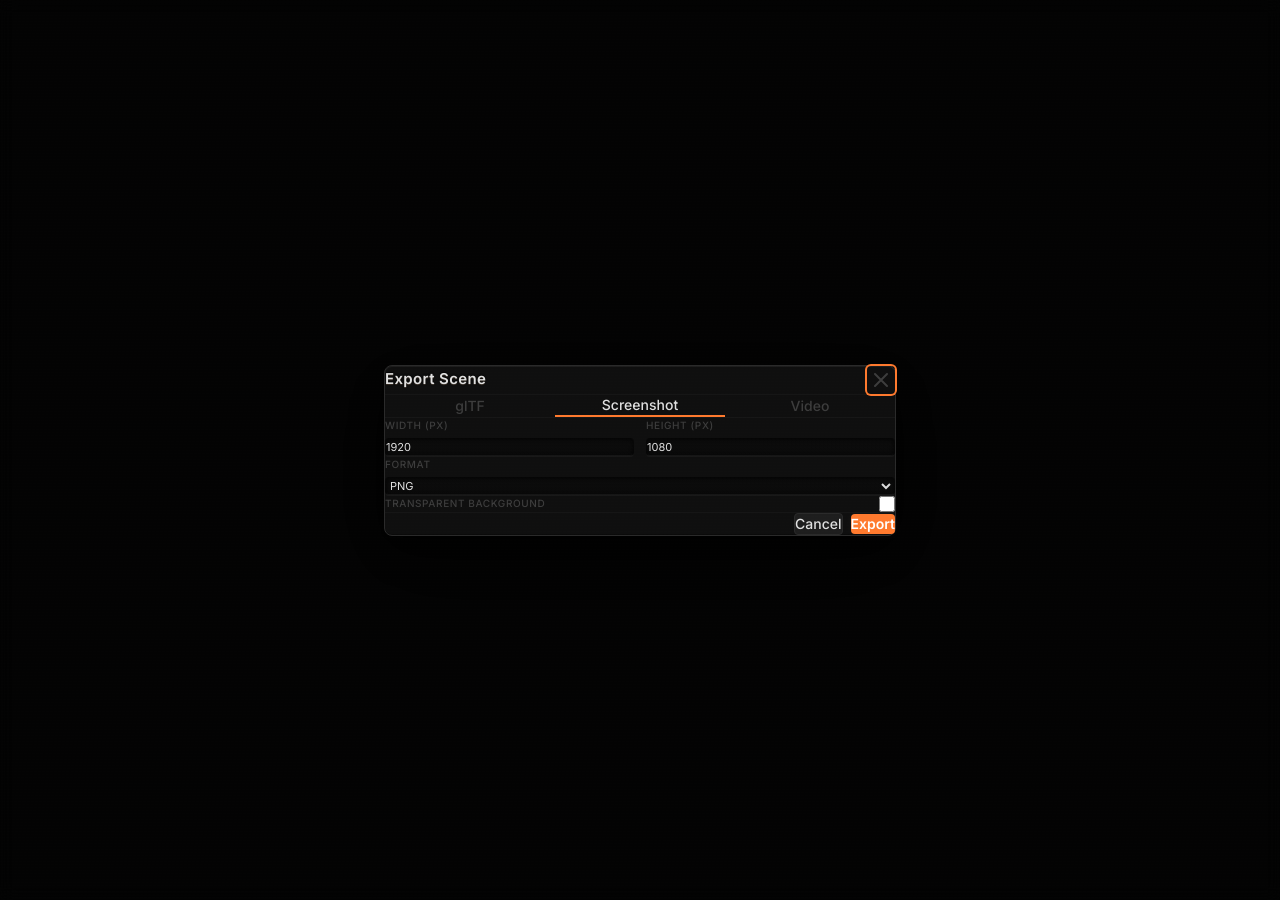
Scenario: ExportDialog › screenshot tab controls › quality slider appears when format is JPEG
Select "JPEG" in the dropdown named "Image format" at {"x": 640, "y": 486}, box top-left (385, 476), bottom-right (895, 494)
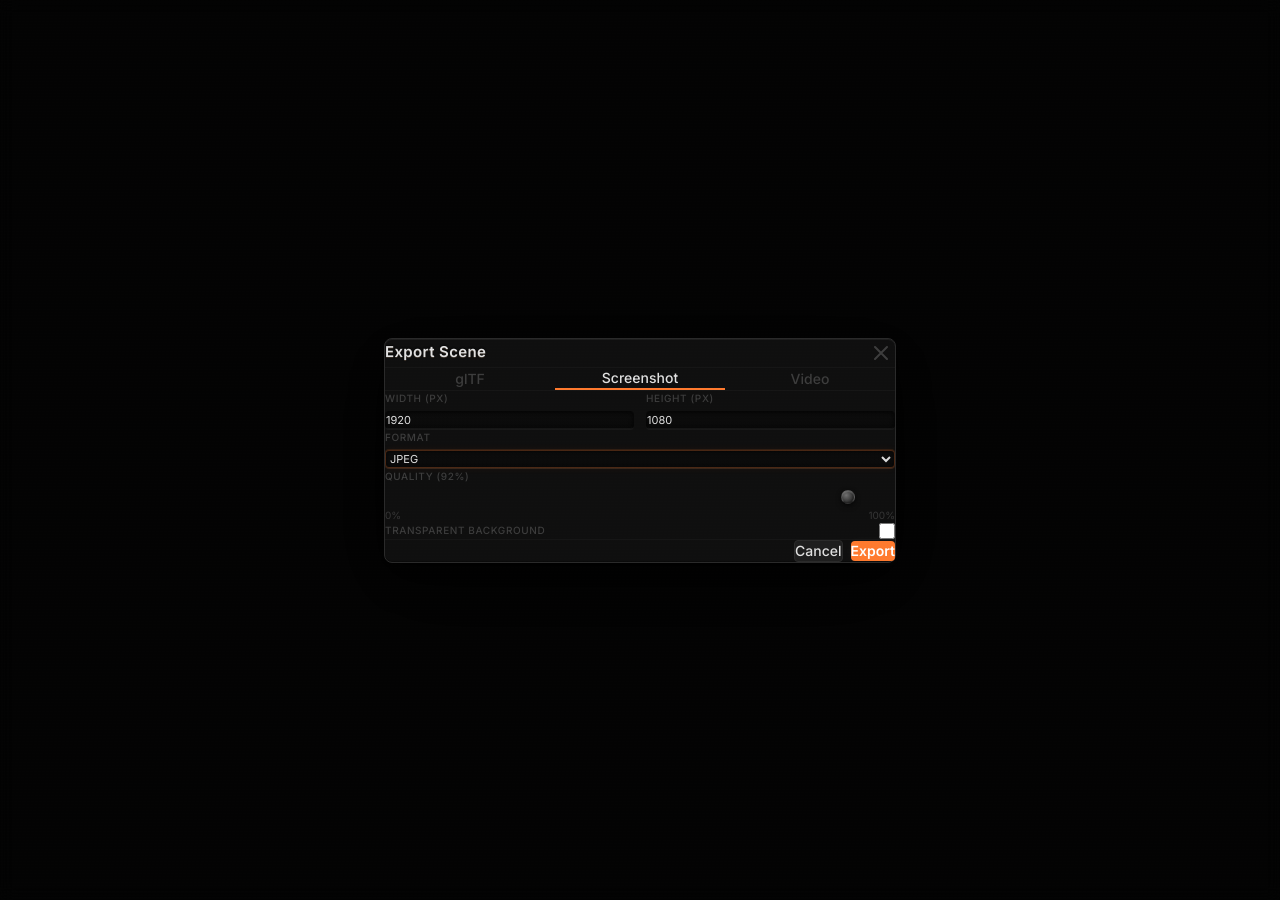
Check: the slider named "Image quality" is shown, box top-left (385, 498), bottom-right (895, 502)
